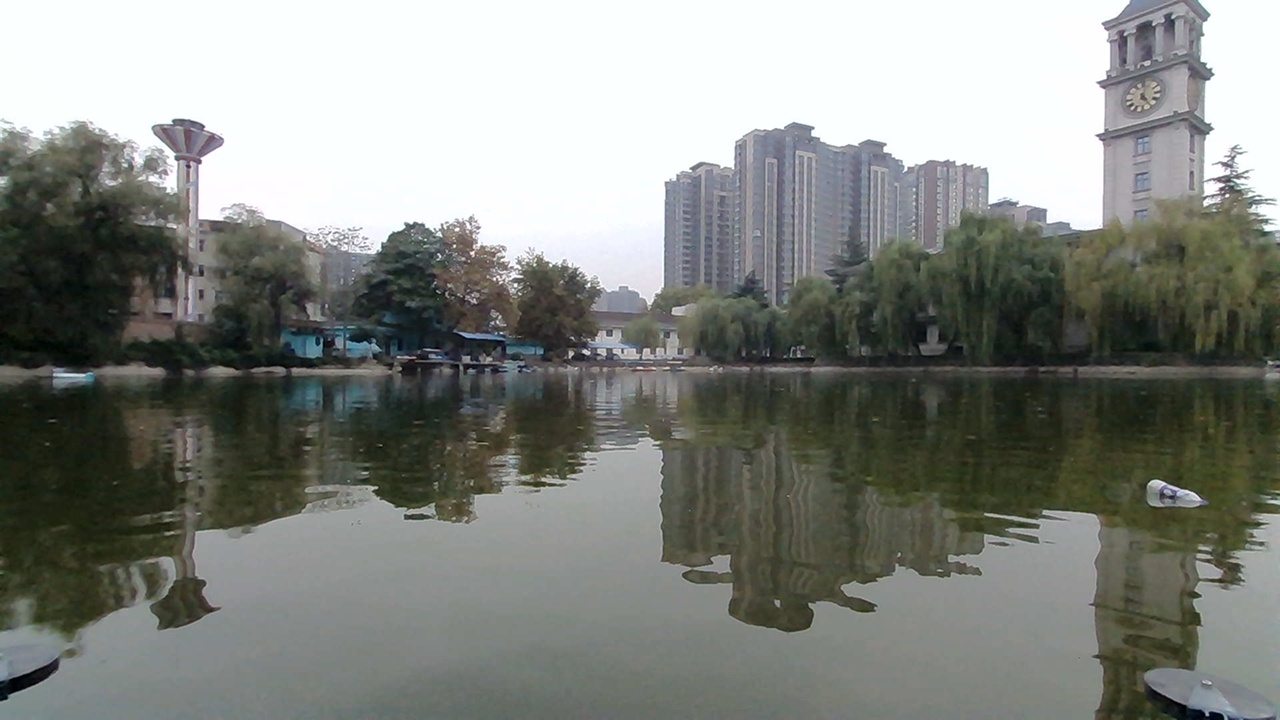bottle: (1127, 466, 1213, 517)
